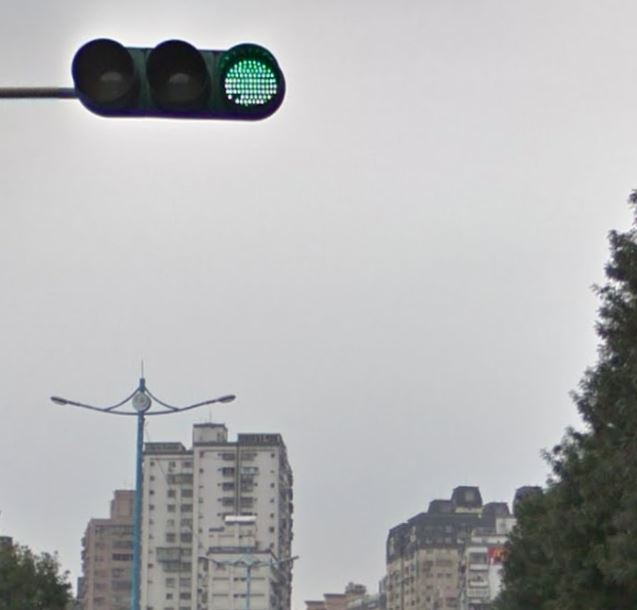Traffic_light_green: (68, 34, 287, 125)
